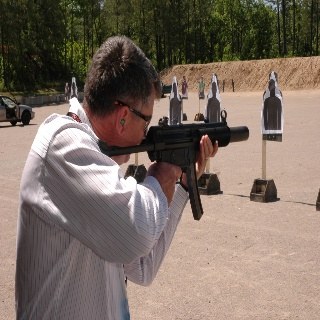rifle: (98, 106, 256, 222)
